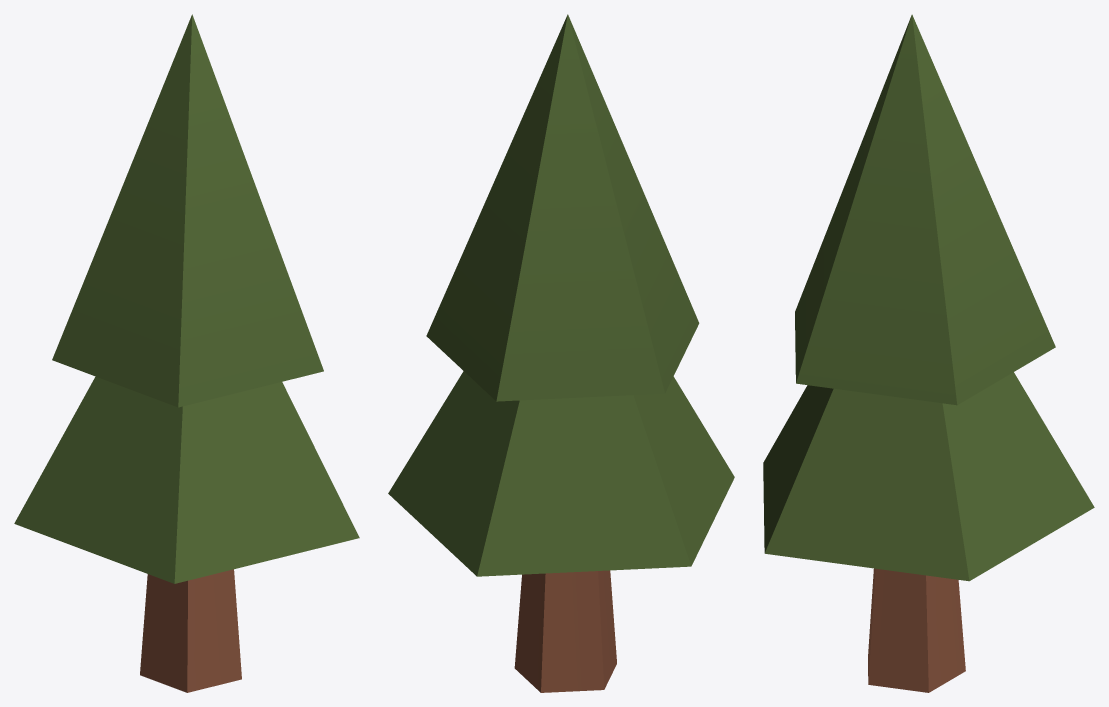
The model's file is pine.glb.
The picture shows the model from 3 angles, left to right: view 1: azimuth 30°, elevation 25°; view 2: azimuth 150°, elevation 25°; view 3: azimuth 270°, elevation 25°; orthographic projection.
Parts seen in each view (by area): view 1: tree_single_A; view 2: tree_single_A; view 3: tree_single_A.
Boxes of the visible parts, x1,y1,x2,y2 form: tree_single_A: [14, 14, 359, 692]; tree_single_A: [388, 14, 734, 692]; tree_single_A: [763, 14, 1094, 692].
Bounding box in the file's own units: 0.574 × 1.2 × 0.547.
